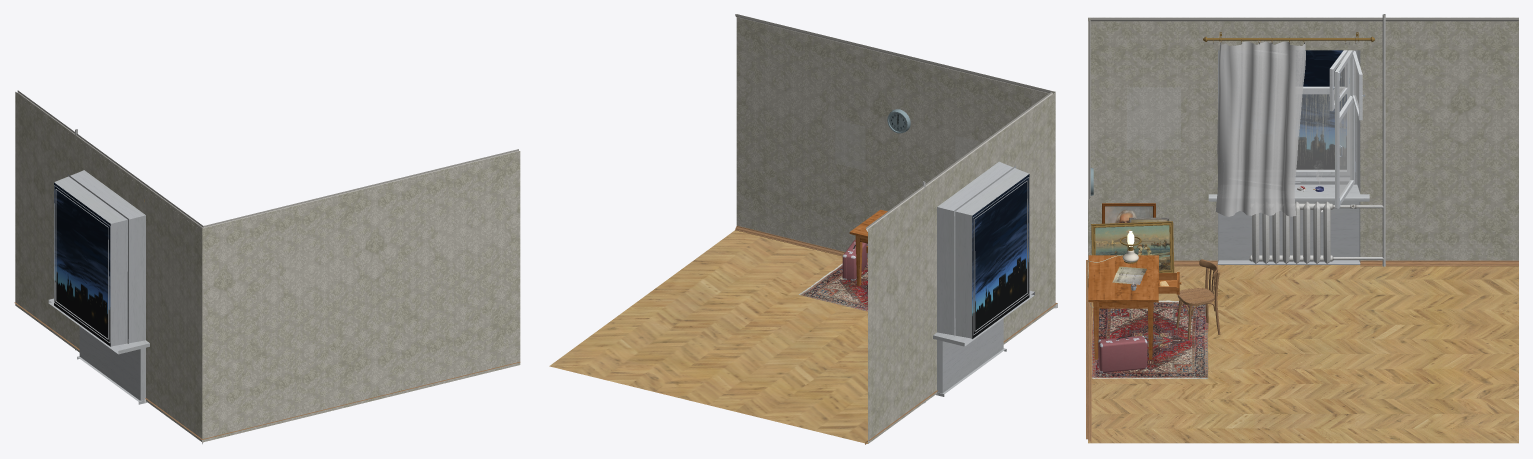
The model's file is old_room.glb.
3 views of the same model, side by side, from view 1: azimuth 30°, elevation 25°; view 2: azimuth 150°, elevation 25°; view 3: azimuth 270°, elevation 25° (orthographic). The views are drawn at different scales.
Parts seen in each view (by area): view 1: Plane, Plane.050, Plane.052, Plane.001, Cube; view 2: Plane, Plane.050, Plane.052, Plane.012, Plane.047, Plane.001, Cube.009, Plane.011, Cube.010, Cube; view 3: Plane, Plane.021, Plane.012, Plane.050, Cube.009, Plane.005, Plane.039, Plane.028, Plane.052, Plane.040, Cube.010, Cube.016 (+16 smaller).
Boxes of the visible parts, <box> form: Plane: <box>15,92,520,442</box>; Plane.050: <box>54,182,110,346</box>; Plane.052: <box>17,90,518,228</box>; Plane.001: <box>54,174,128,343</box>; Cube: <box>48,298,149,354</box>; Plane: <box>549,14,1055,443</box>; Plane.050: <box>972,174,1029,338</box>; Plane.052: <box>735,14,1052,231</box>; Plane.012: <box>798,262,867,311</box>; Plane.047: <box>835,120,865,170</box>; Plane.001: <box>954,165,1029,336</box>; Cube.009: <box>849,209,887,285</box>; Plane.011: <box>735,225,1057,303</box>; Cube.010: <box>842,239,867,279</box>; Cube: <box>933,290,1034,346</box>; Plane: <box>1088,17,1518,443</box>; Plane.021: <box>1216,41,1305,216</box>; Plane.012: <box>1091,300,1208,379</box>; Plane.050: <box>1296,50,1346,169</box>; Cube.009: <box>1088,255,1158,359</box>; Plane.005: <box>1252,201,1330,264</box>; Plane.039: <box>1127,87,1180,149</box>; Plane.028: <box>1296,94,1346,170</box>; Plane.052: <box>1088,18,1518,199</box>; Plane.040: <box>1095,225,1170,270</box>; Cube.010: <box>1098,336,1147,372</box>; Cube.016: <box>1176,259,1220,340</box>.
Size of what is drawn, in the model's own units: 783 by 469 by 725.
Materials: 50 (31 with a texture image).
